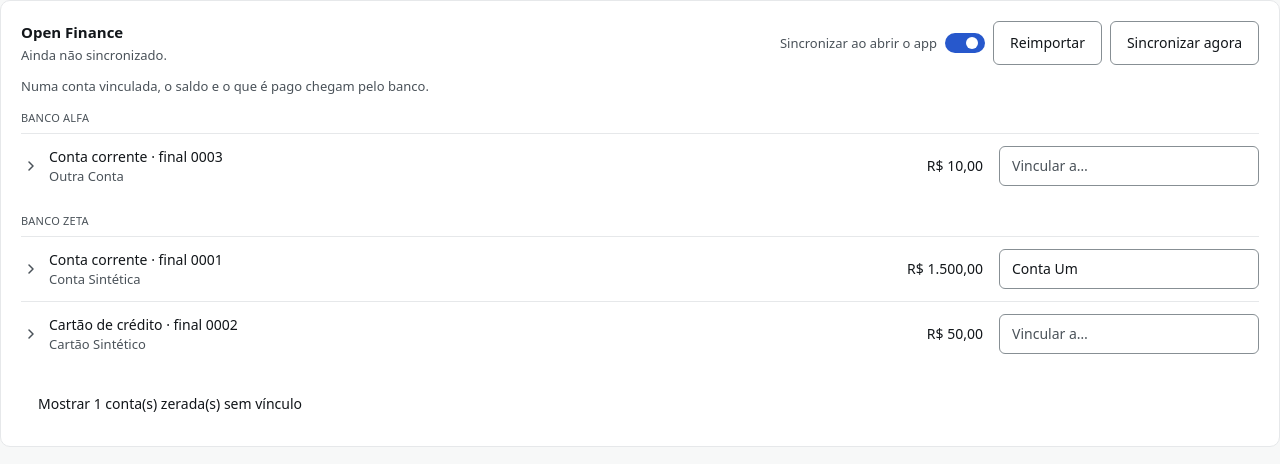
OpenFinanceLinksCard › cartão não oferece "Criar": ele aponta para a conta que paga
What coordinates should you click on to do the following:
click the dropdown labelled "Vincular a…" next to "R$ 50,00"
I would click on:
 (1050, 334)
Its box is [999,314,1259,354].
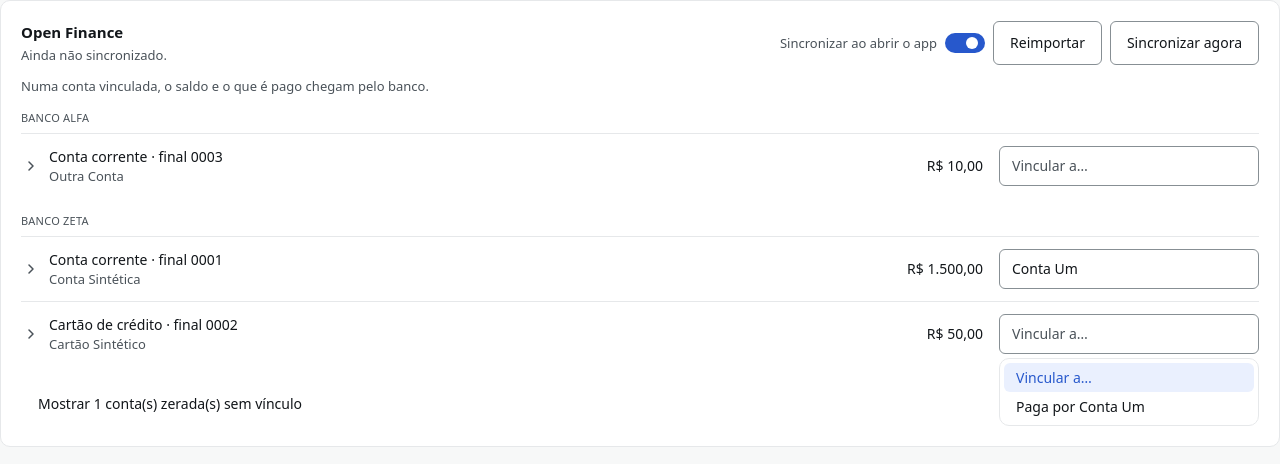
expect the option "Paga por Conta Um" is shown: met, box [1016,396,1145,416]
